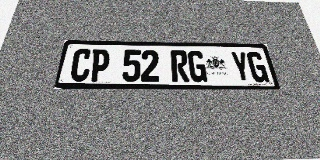2: (141, 50, 159, 82)
5: (122, 50, 141, 82)
C: (69, 49, 92, 81)
G: (246, 52, 270, 82), (187, 51, 208, 82)
P: (89, 49, 110, 82)
R: (170, 50, 190, 82)
Y: (230, 51, 252, 82)
